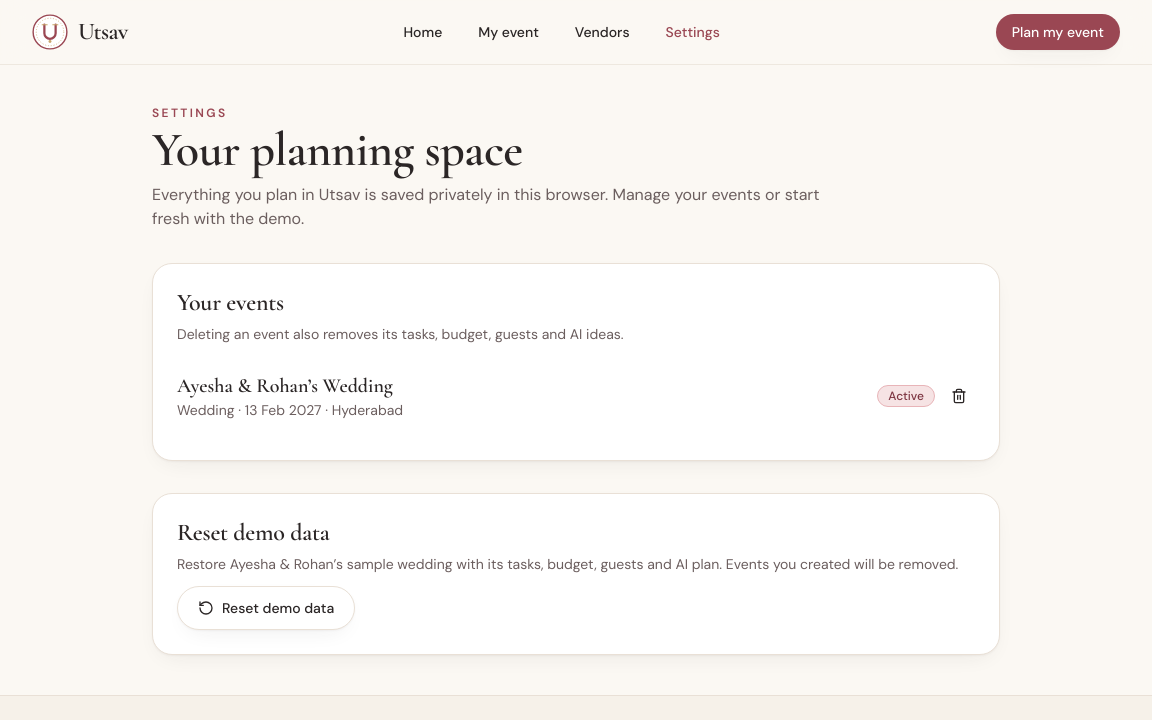
Scenario: SettingsPage › deletes an event and its planning data only after confirmation
This screenshot has width=1152, height=720.
Expected: the heading "Your planning space" is shown, [152,121,523,179]
Step 1. Click the button named "Delete Ayesha & Rohan’s Wedding" → {"x": 959, "y": 396}, box [943,380,975,412]
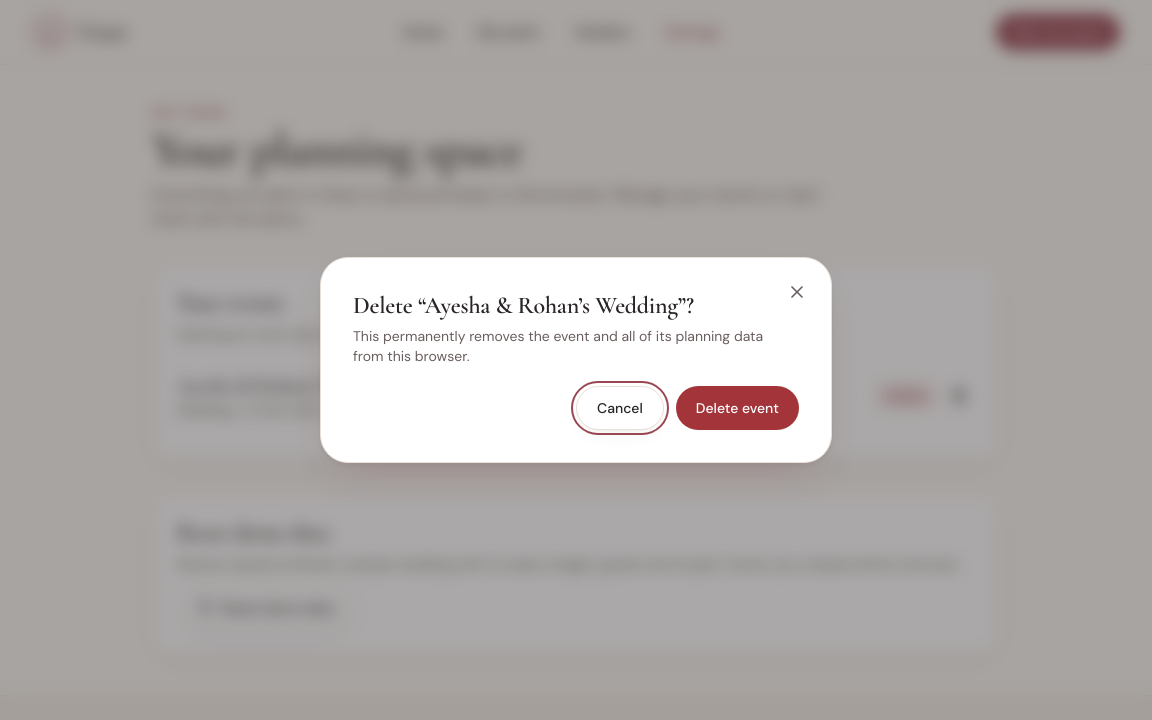
Step 2. Click the button "Cancel" → {"x": 620, "y": 408}, box [576,386,664,430]
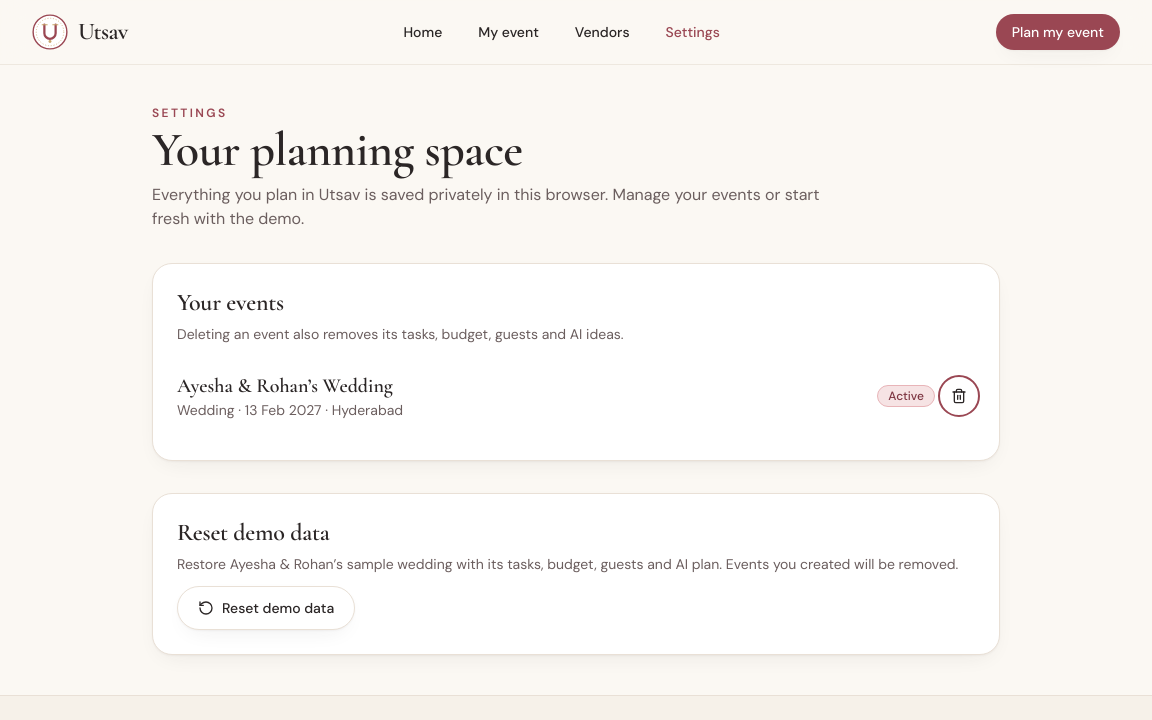
Step 3. Click the button named "Delete Ayesha & Rohan’s Wedding" → {"x": 959, "y": 396}, box [943,380,975,412]
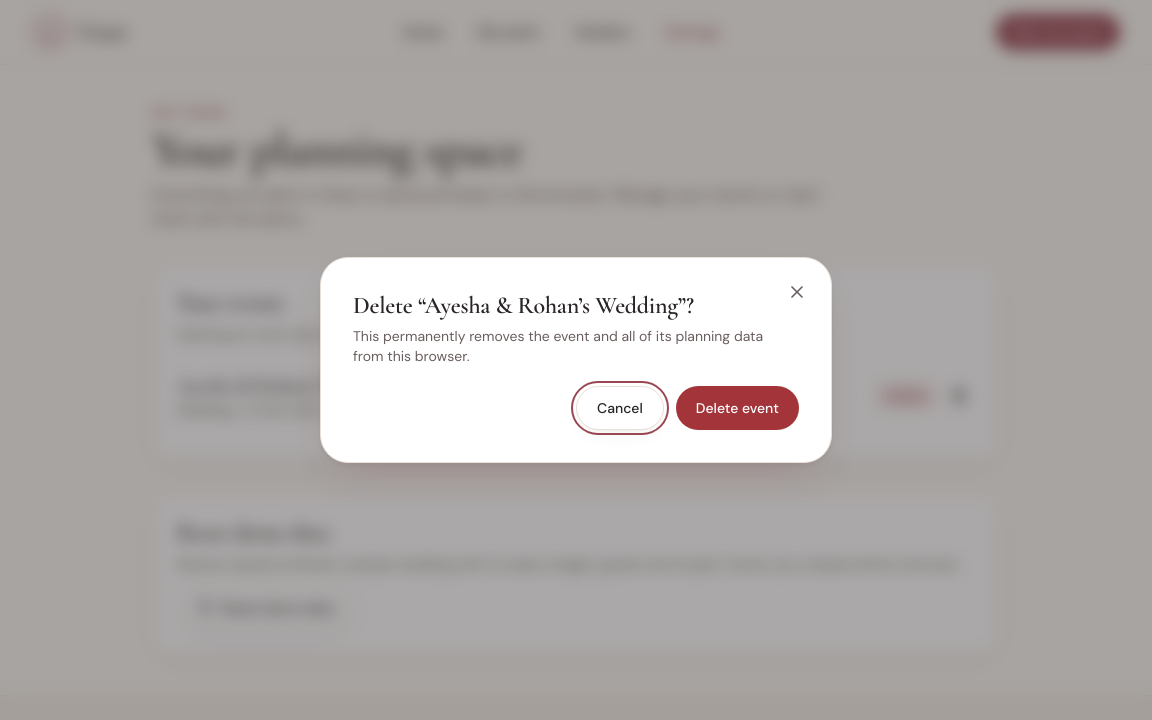
Step 4. Click the button "Delete event" → {"x": 737, "y": 408}, box [676,386,799,430]
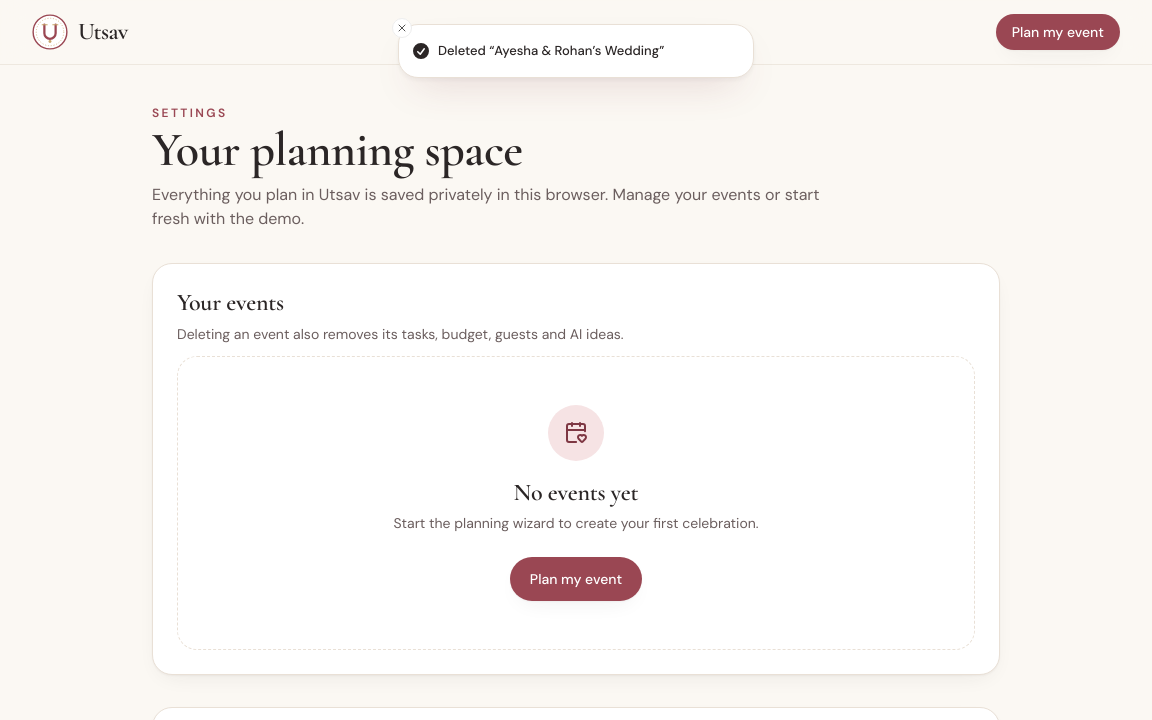
Now the heading "No events yet" is shown, box [514,477,638,509]
